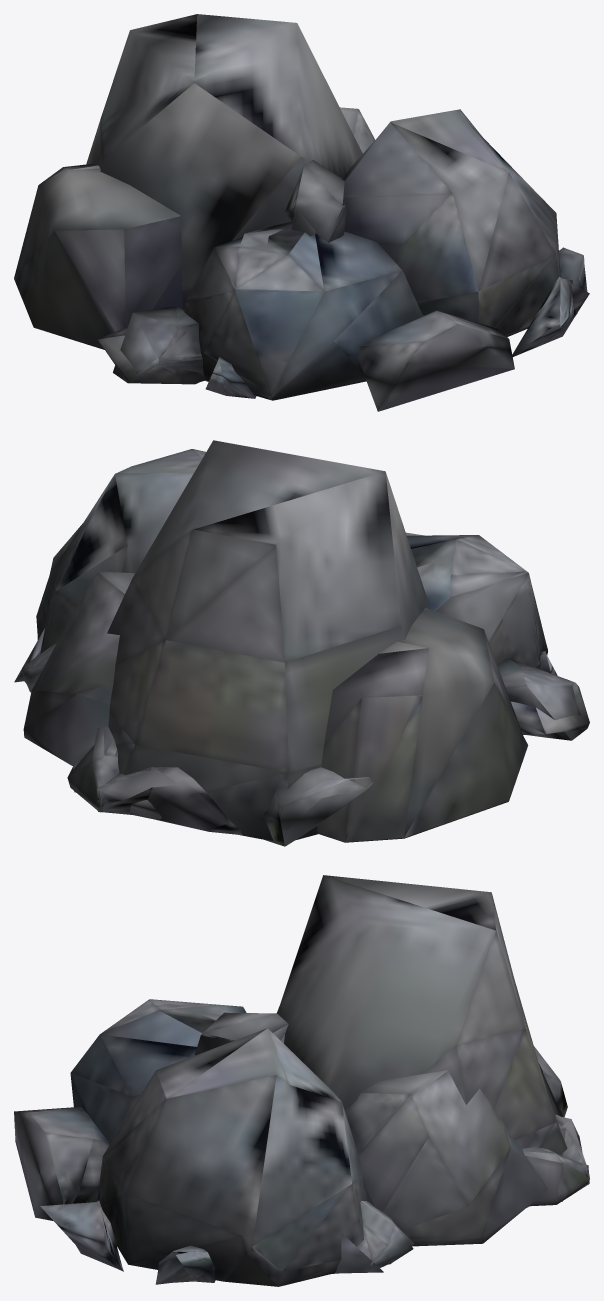
The model's file is 45-rock-cluster.glb.
3 renders of one model, top to bottom at view 1: azimuth 30°, elevation 25°; view 2: azimuth 150°, elevation 25°; view 3: azimuth 270°, elevation 25°, orthographic. The views are drawn at different scales.
Parts seen in each view (by area): view 1: geometry_0; view 2: geometry_0; view 3: geometry_0.
Part boxes in pixels (<box>): geometry_0: <box>14,14,589,411</box>; geometry_0: <box>14,440,589,846</box>; geometry_0: <box>14,875,589,1286</box>.
Size of the model in its own units: 0.9199 by 0.4702 by 0.9414.
1 material, 1 textured.
